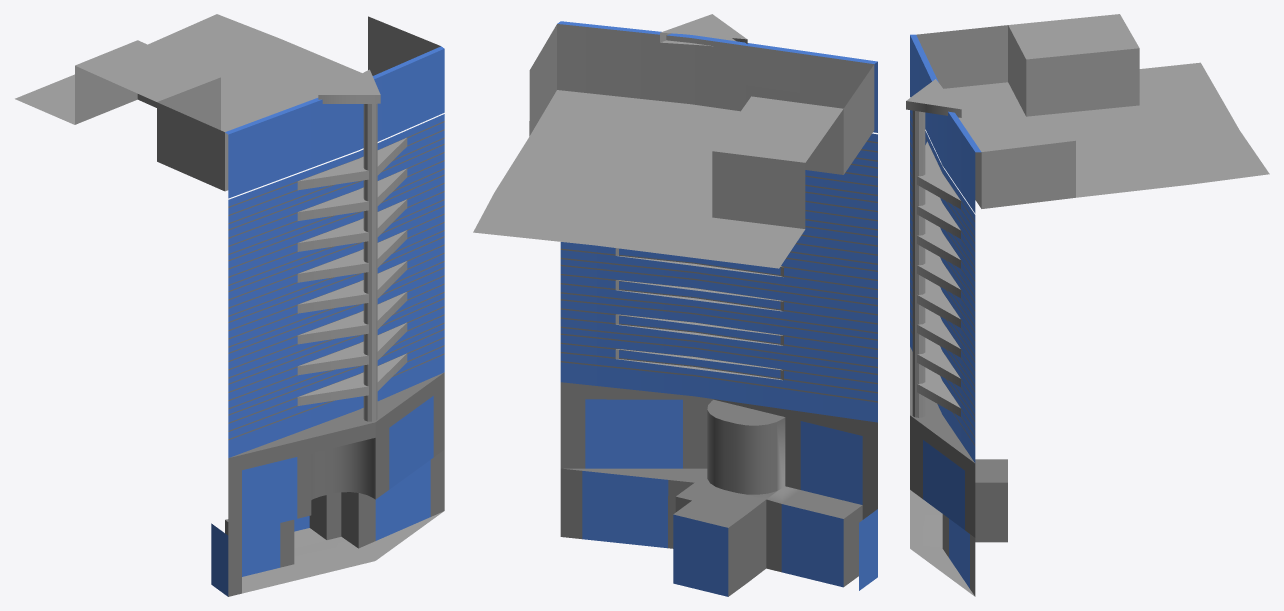
File: takara_Building 1.fbx
3 renders of one model, left to right at view 1: azimuth 30°, elevation 25°; view 2: azimuth 150°, elevation 25°; view 3: azimuth 270°, elevation 25°, orthographic. The views are drawn at different scales.
Parts seen in each view (by area): view 1: pPlane1, pCube10, pCylinder1; view 2: pPlane1, pCube10; view 3: pPlane1, pCube10, pCylinder1.
Part boxes in pixels (bbox=[...]): pPlane1: bbox=[15, 14, 444, 596]; pCube10: bbox=[297, 69, 407, 405]; pCylinder1: bbox=[363, 103, 377, 421]; pPlane1: bbox=[473, 21, 877, 596]; pCube10: bbox=[615, 14, 783, 380]; pPlane1: bbox=[910, 14, 1269, 596]; pCube10: bbox=[906, 79, 961, 416]; pCylinder1: bbox=[912, 110, 925, 417].
Size of the model in its own units: 106 by 152 by 111.
